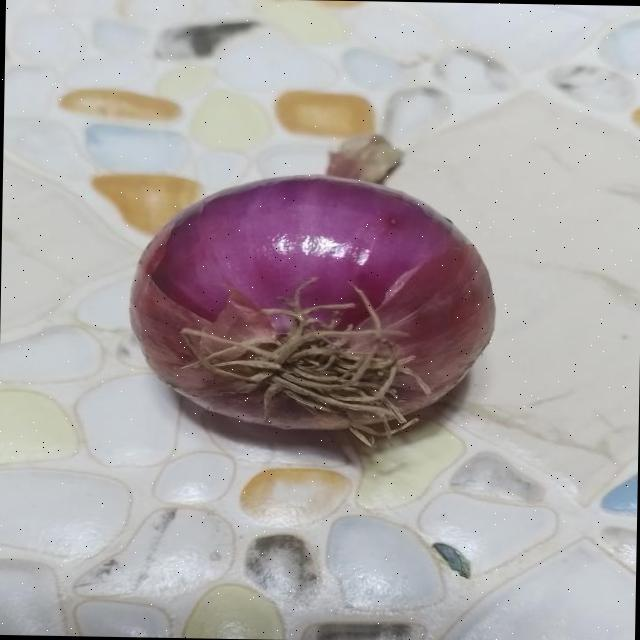Onion: (130, 176, 495, 441)
